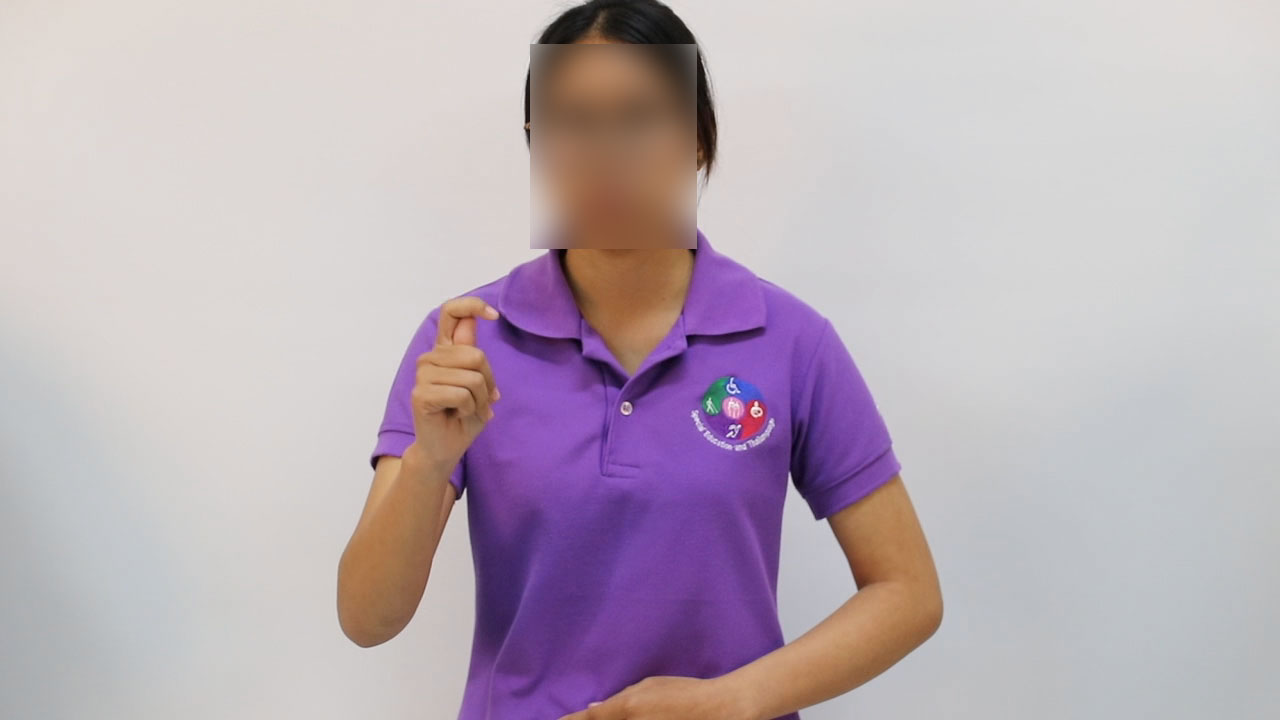or: (403, 293, 508, 480)
